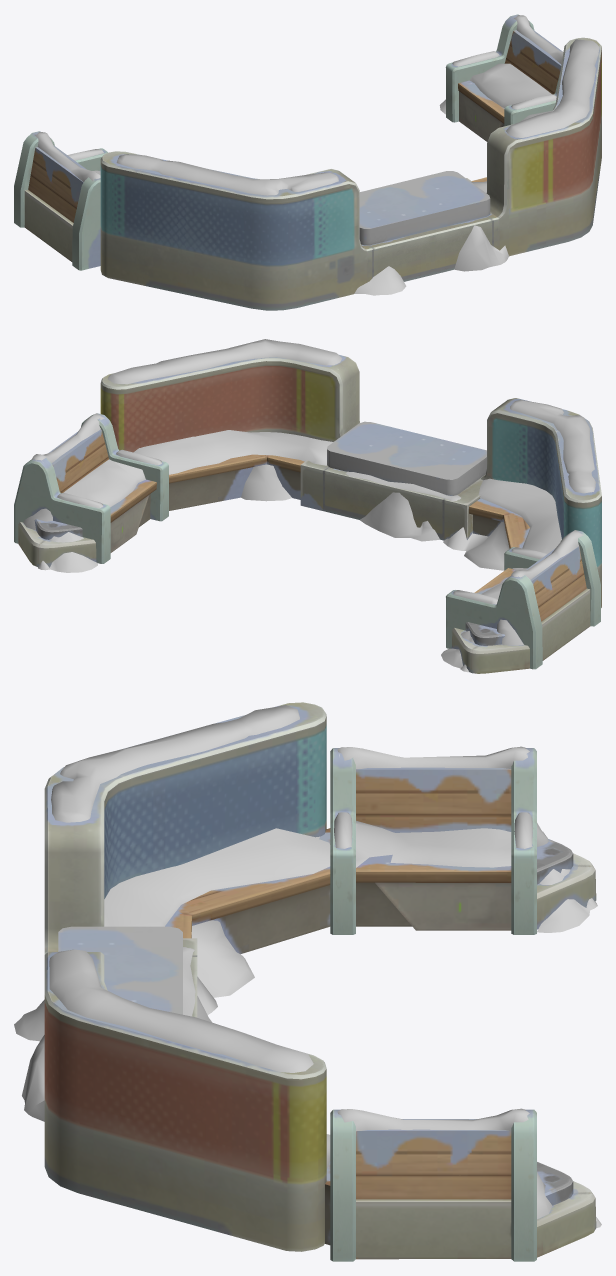
Rendered from pref_sm_city_chairblock03_snow_lv3.fbx.
3 renders of one model, top to bottom at view 1: azimuth 30°, elevation 25°; view 2: azimuth 150°, elevation 25°; view 3: azimuth 270°, elevation 25°, orthographic. The views are drawn at different scales.
Parts seen in each view (by area): view 1: sm_city_chairblock03_snow_lv3, sm_city_chairblock03_snow01_lv3; view 2: sm_city_chairblock03_snow_lv3, sm_city_chairblock03_snow01_lv3; view 3: sm_city_chairblock03_snow_lv3, sm_city_chairblock03_snow01_lv3.
Part boxes in pixels (<box>): sm_city_chairblock03_snow_lv3: <box>14,14,601,310</box>; sm_city_chairblock03_snow01_lv3: <box>35,15,599,295</box>; sm_city_chairblock03_snow_lv3: <box>14,355,601,673</box>; sm_city_chairblock03_snow01_lv3: <box>23,339,595,672</box>; sm_city_chairblock03_snow_lv3: <box>44,702,596,1261</box>; sm_city_chairblock03_snow01_lv3: <box>14,705,601,1228</box>.
Bounding box in the file's own units: 9.71 × 2.17 × 6.12.
